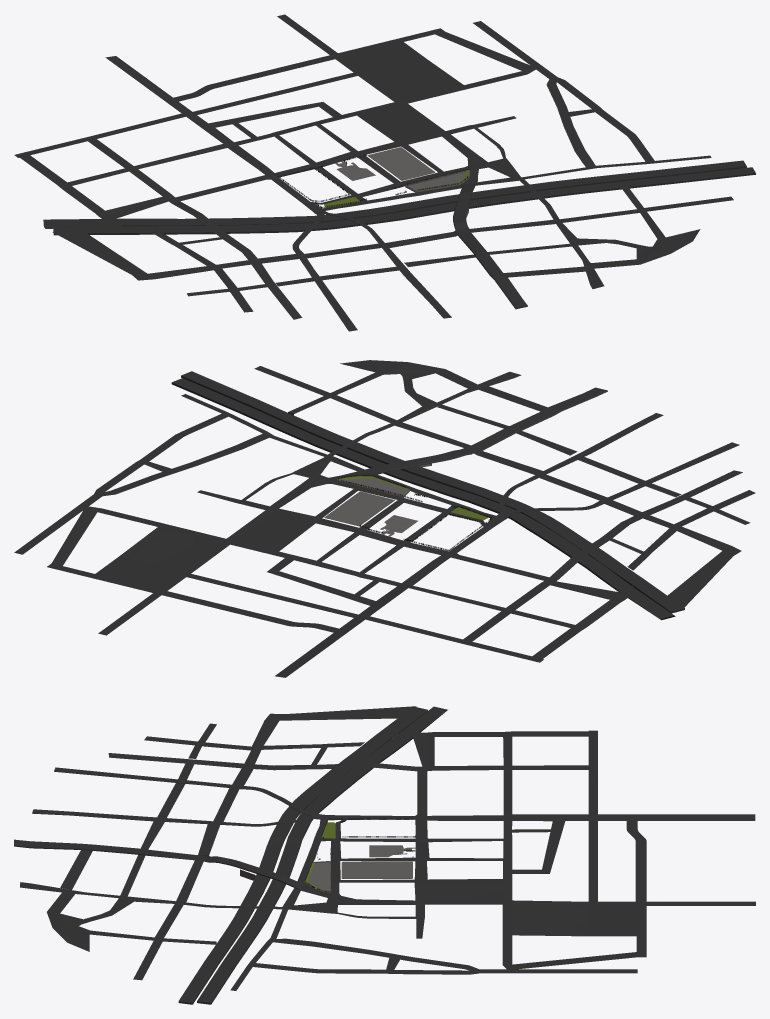
The model's file is roads.glb.
The picture shows the model from 3 angles, top to bottom: view 1: azimuth 30°, elevation 25°; view 2: azimuth 150°, elevation 25°; view 3: azimuth 270°, elevation 25°; orthographic projection. The views are drawn at different scales.
Parts seen in each view (by area): view 1: ROAD RAW; view 2: ROAD RAW; view 3: ROAD RAW.
Part boxes in pixels (<box>): ROAD RAW: <box>14,14,755,331</box>; ROAD RAW: <box>14,360,755,677</box>; ROAD RAW: <box>14,706,755,1004</box>.
Size of the model in its own units: 84.52 by 1.23 by 89.21.
Materials: 1 (1 with a texture image).
